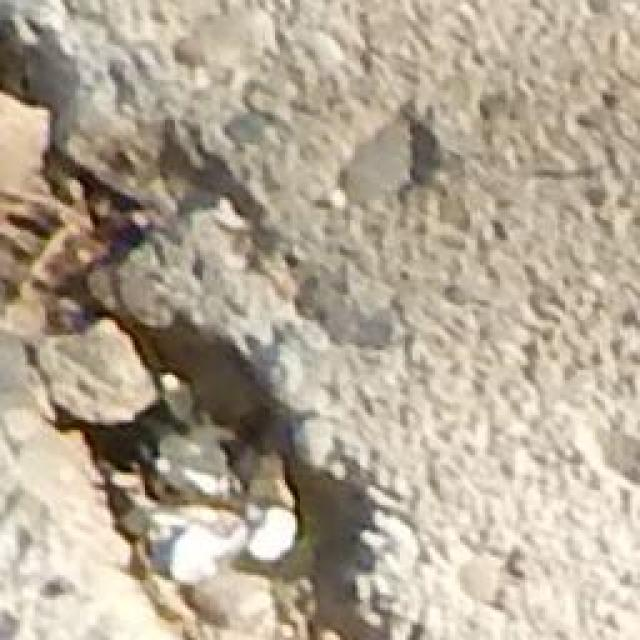concrete-crack: (0, 3, 362, 640)
